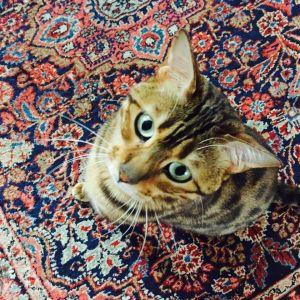bengal: (100, 28, 292, 211)
